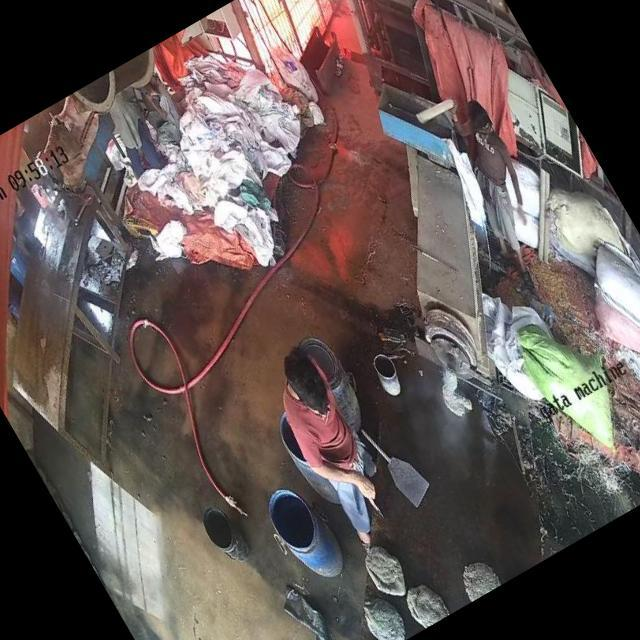person: (258, 336, 409, 538), (432, 96, 568, 276)
